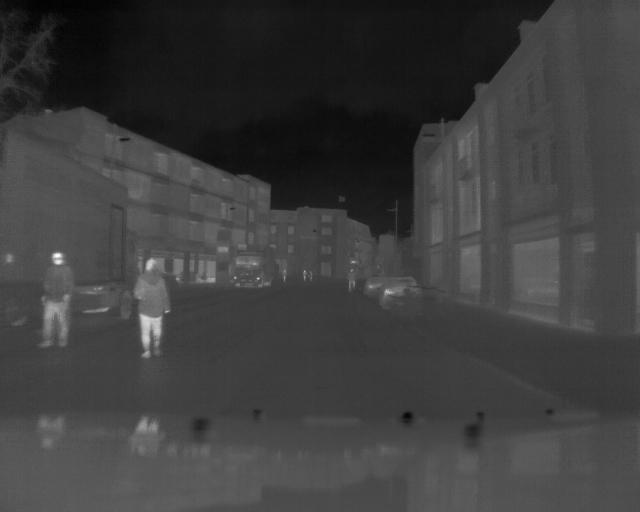car: (230, 249, 278, 290)
person: (135, 255, 168, 364), (39, 250, 72, 351), (346, 265, 358, 298)
